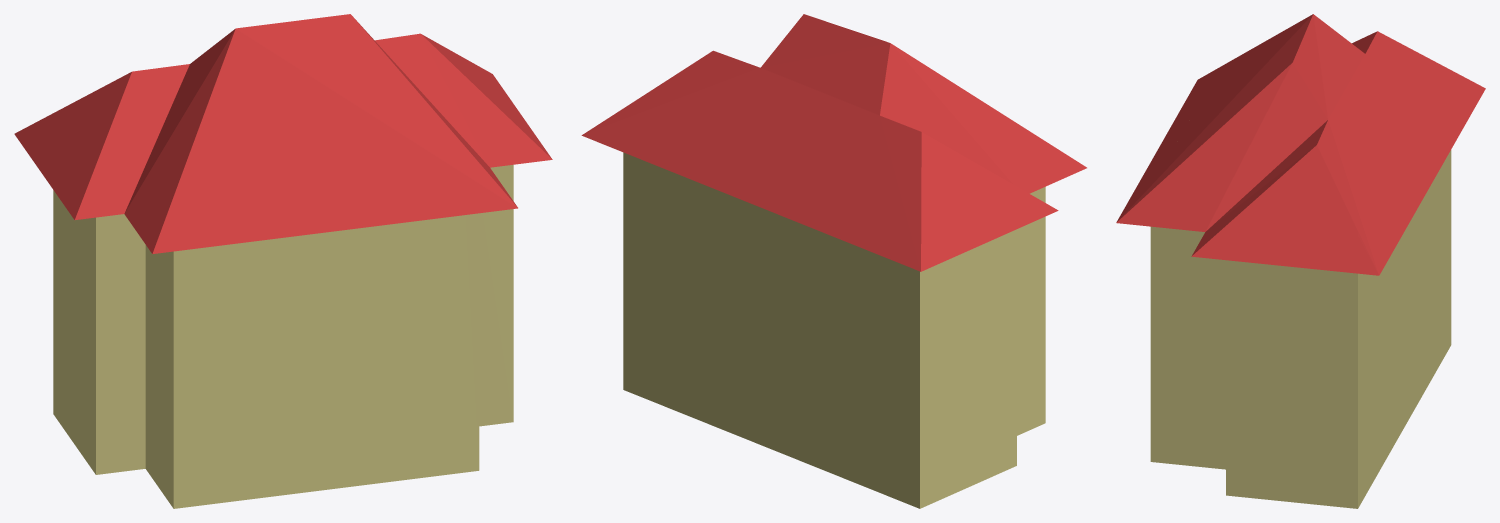
3 views of the same model, side by side, from view 1: azimuth 30°, elevation 25°; view 2: azimuth 150°, elevation 25°; view 3: azimuth 270°, elevation 25° (orthographic). The views are drawn at different scales.
Parts seen in each view (by area): view 1: group_5, group_3, group_4; view 2: group_5, group_3, group_4; view 3: group_5, group_3, group_4.
Part boxes in pixels (x1,y1,x2,y2): group_5: (53, 164, 513, 508); group_3: (14, 14, 552, 253); group_4: (14, 61, 552, 253); group_5: (623, 152, 1045, 508); group_3: (581, 14, 1086, 271); group_4: (839, 146, 1057, 271); group_5: (1150, 150, 1451, 508); group_3: (1116, 14, 1485, 275); group_4: (1116, 67, 1466, 275).
Size of the model in its own units: 16.95 by 12.83 by 14.51.
